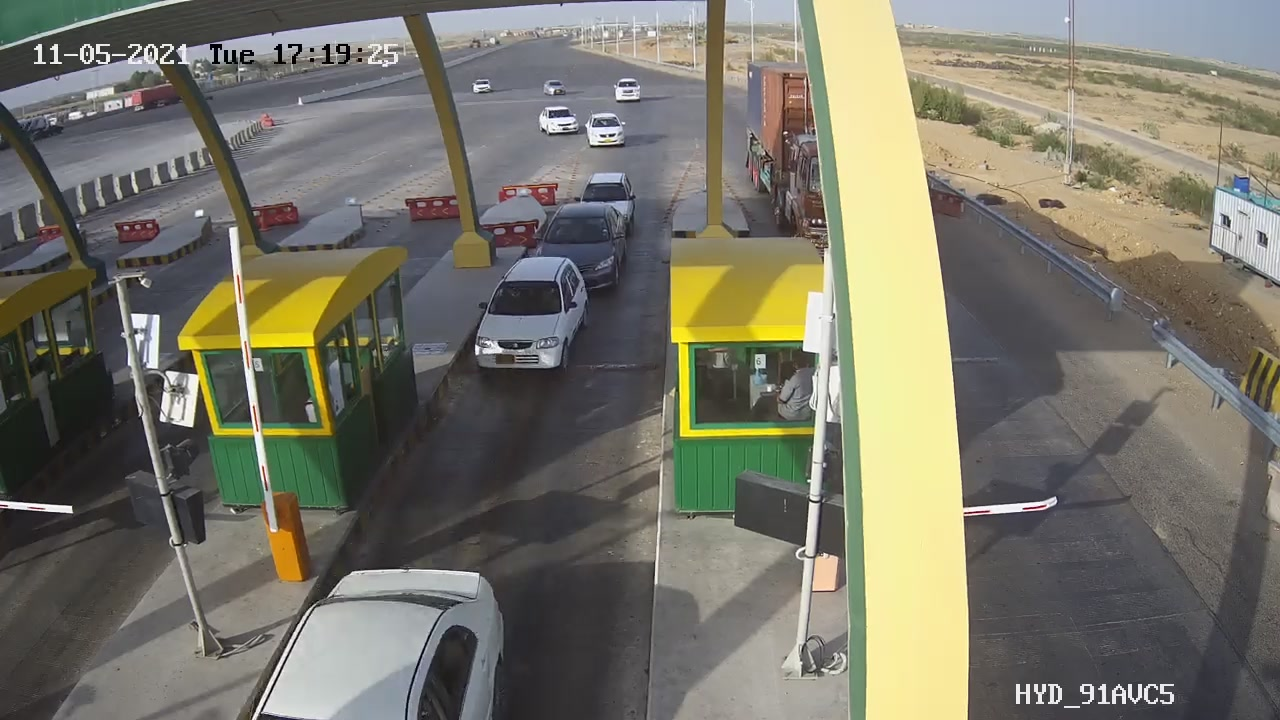F1: (457, 244, 604, 390)
